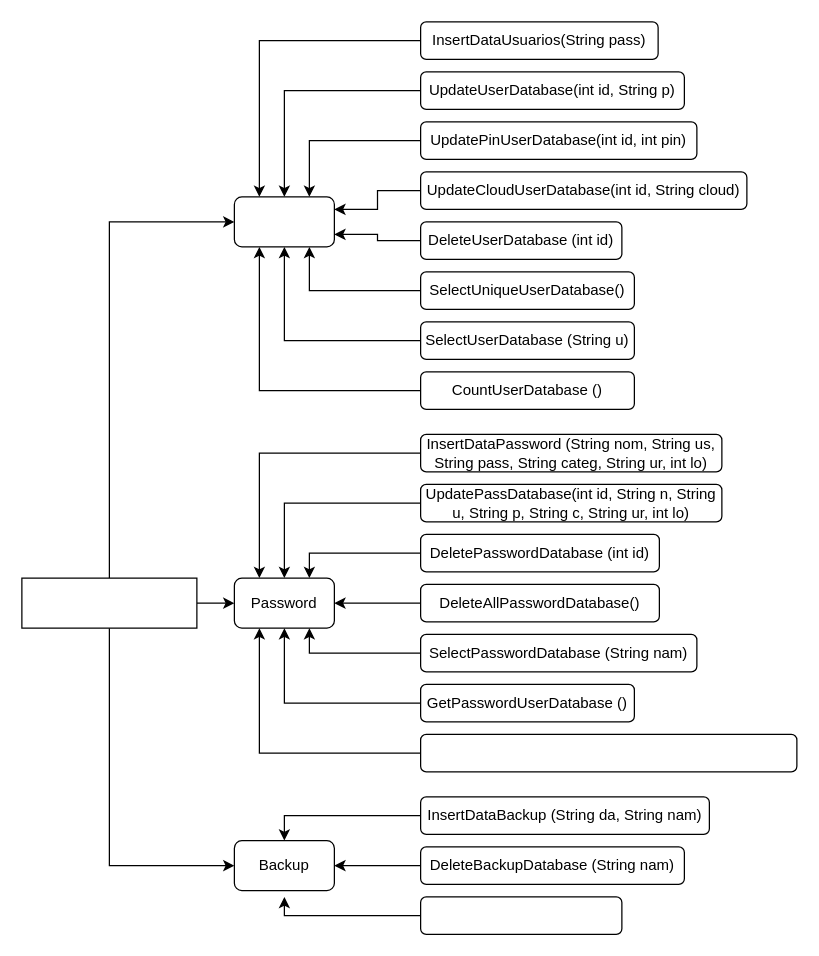
Some shapes in this 819 by 956 pixel diagram are drawn without their labels. The centre of each missing label's shape, as x and y in pixels:
DatabaseSafePassword: point 109,602
GetBackupUserDatabase (): point 520,915
GetPasswordUserDatabaseByCategory (String categ): point 608,752
Usuario: point 283,221
